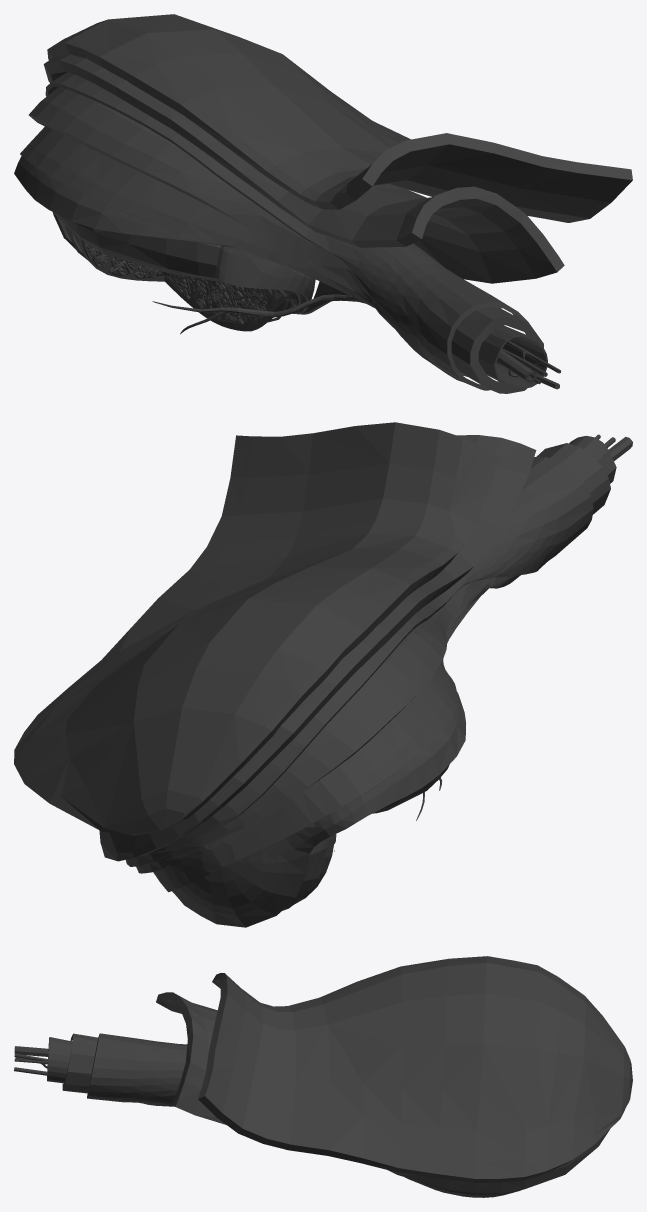
File: sharedassets95.glb
3 renders of one model, top to bottom at view 1: azimuth 30°, elevation 25°; view 2: azimuth 150°, elevation 25°; view 3: azimuth 270°, elevation 25°, orthographic. The views are drawn at different scales.
Visible parts, largest first — view 1: 0009_Skin_testis_305391, 0006_Dartos fascia_testis_305392, 0012_External spermatic fascia_testis_305394, 0010_Cremaster muscle and fascia_testis_30539, 0015_Internal spermatic fascia_testis_305395, 0002_Parietal layer of tunica vaginalis_testi, 0019_Body of epididymis_testis_305414, 0017_Convoluted seminiferous tubules_testis_3, 0013_Tunica albuginea_testis_305406, 0018_Genital branch of genitofemoral nerve_te, 0008_Vas deferens_testis_305400; view 2: 0009_Skin_testis_305391, 0010_Cremaster muscle and fascia_testis_30539, 0012_External spermatic fascia_testis_305394, 0015_Internal spermatic fascia_testis_305395, 0006_Dartos fascia_testis_305392, 0002_Parietal layer of tunica vaginalis_testi, 0000_Visceral layer of tunica vaginalis_testi; view 3: 0009_Skin_testis_305391, 0012_External spermatic fascia_testis_305394, 0006_Dartos fascia_testis_305392, 0010_Cremaster muscle and fascia_testis_30539, 0015_Internal spermatic fascia_testis_305395, 0002_Parietal layer of tunica vaginalis_testi.
Boxes of the visible parts, x1,y1,x2,y2 form: 0009_Skin_testis_305391: (47, 14, 632, 222); 0006_Dartos fascia_testis_305392: (43, 54, 564, 283); 0012_External spermatic fascia_testis_305394: (45, 72, 529, 390); 0010_Cremaster muscle and fascia_testis_30539: (28, 87, 543, 393); 0015_Internal spermatic fascia_testis_305395: (20, 126, 547, 388); 0002_Parietal layer of tunica vaginalis_testi: (14, 156, 344, 314); 0019_Body of epididymis_testis_305414: (53, 212, 224, 282); 0017_Convoluted seminiferous tubules_testis_3: (81, 239, 272, 324); 0013_Tunica albuginea_testis_305406: (72, 231, 285, 331); 0018_Genital branch of genitofemoral nerve_te: (152, 294, 559, 389); 0008_Vas deferens_testis_305400: (497, 350, 536, 382); 0009_Skin_testis_305391: (14, 422, 500, 835); 0010_Cremaster muscle and fascia_testis_30539: (136, 443, 610, 873); 0012_External spermatic fascia_testis_305394: (125, 457, 593, 866); 0015_Internal spermatic fascia_testis_305395: (153, 435, 616, 892); 0006_Dartos fascia_testis_305392: (99, 435, 536, 861); 0002_Parietal layer of tunica vaginalis_testi: (172, 692, 465, 927); 0000_Visceral layer of tunica vaginalis_testi: (282, 838, 327, 910); 0009_Skin_testis_305391: (198, 956, 632, 1182); 0012_External spermatic fascia_testis_305394: (87, 1033, 187, 1106); 0006_Dartos fascia_testis_305392: (156, 992, 609, 1193); 0010_Cremaster muscle and fascia_testis_30539: (62, 1033, 502, 1194); 0015_Internal spermatic fascia_testis_305395: (47, 1037, 72, 1083); 0002_Parietal layer of tunica vaginalis_testi: (405, 1177, 523, 1197).
Bounding box in the file's own units: 0.2188 × 0.1688 × 0.4369.
Materials: 1 (1 with a texture image).
